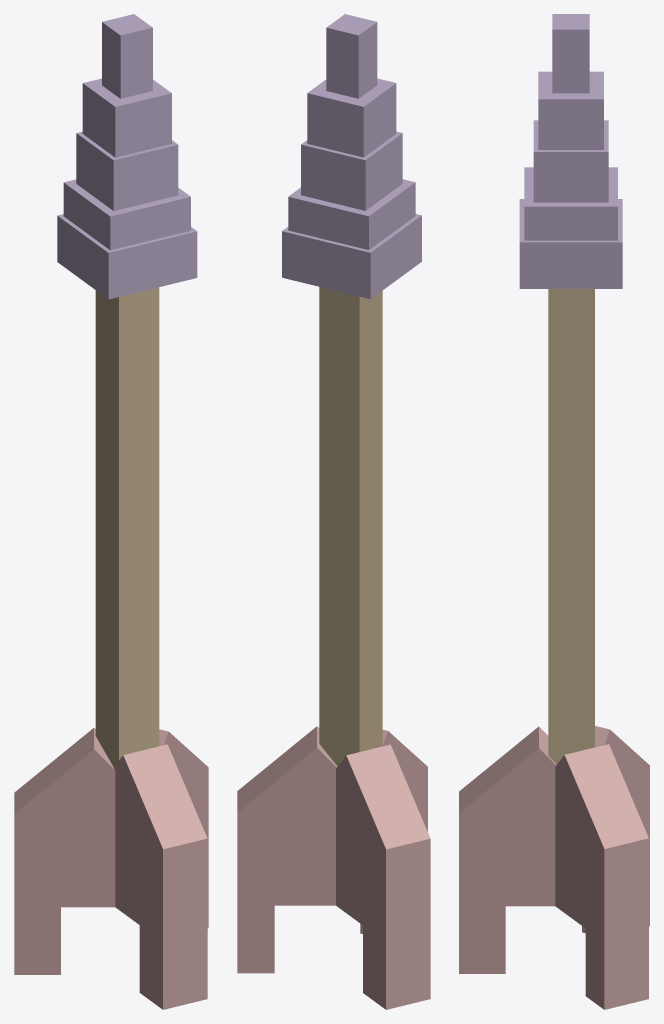
The model's file is IsoArcher.arrow.gltf.
3 views of the same model, side by side, from view 1: azimuth 30°, elevation 25°; view 2: azimuth 150°, elevation 25°; view 3: azimuth 270°, elevation 25° (orthographic).
Visible parts, largest first — view 1: 392da4a6-0bd7-9289-1cb7-db5d670ab290, 1ea4d548-f086-178e-73b8-49be394b940e, 4417084d-fec9-f581-c722-23504b6b3c8c, de598adf-060d-991b-62bc-e8b8c399892c, 15048dc1-eaa8-a1f0-29c7-59d6564ae6b0, 9c764c30-f756-50fc-f89d-91d7d4dd961e, 90eca5a1-1c42-ab53-94e7-ed0f11142ffe, 0455e8b1-8c47-5009-832d-5c2387693681, 49005386-c311-5ce1-26ec-653ee90f68c9, 583d874e-b163-b309-5b69-a2b5bf503a9c, 89610e5b-14cf-f53b-6971-e648db3985f9, dfc1f6ac-8116-7370-995a-172479285e55 (+2 smaller); view 2: 392da4a6-0bd7-9289-1cb7-db5d670ab290, 7dbfb04c-edc3-2b69-c7ed-3d3211226edb, 1ea4d548-f086-178e-73b8-49be394b940e, a1677301-f187-065c-4e82-2542b5e3ae78, de598adf-060d-991b-62bc-e8b8c399892c, 15048dc1-eaa8-a1f0-29c7-59d6564ae6b0, 90eca5a1-1c42-ab53-94e7-ed0f11142ffe, 0455e8b1-8c47-5009-832d-5c2387693681, 49005386-c311-5ce1-26ec-653ee90f68c9, dfc1f6ac-8116-7370-995a-172479285e55, 89610e5b-14cf-f53b-6971-e648db3985f9, 949b490e-fcf6-f788-2f34-650c4cdb0df4 (+2 smaller); view 3: 392da4a6-0bd7-9289-1cb7-db5d670ab290, 9c764c30-f756-50fc-f89d-91d7d4dd961e, 4417084d-fec9-f581-c722-23504b6b3c8c, 7dbfb04c-edc3-2b69-c7ed-3d3211226edb, a1677301-f187-065c-4e82-2542b5e3ae78, 15048dc1-eaa8-a1f0-29c7-59d6564ae6b0, 0455e8b1-8c47-5009-832d-5c2387693681, 949b490e-fcf6-f788-2f34-650c4cdb0df4, 49005386-c311-5ce1-26ec-653ee90f68c9, 90eca5a1-1c42-ab53-94e7-ed0f11142ffe, 583d874e-b163-b309-5b69-a2b5bf503a9c, 89610e5b-14cf-f53b-6971-e648db3985f9 (+2 smaller).
Part boxes in pixels (box(x1,y1,x2,y2)): 392da4a6-0bd7-9289-1cb7-db5d670ab290: box(95, 287, 159, 766); 1ea4d548-f086-178e-73b8-49be394b940e: box(14, 728, 115, 874); 4417084d-fec9-f581-c722-23504b6b3c8c: box(115, 814, 207, 942); de598adf-060d-991b-62bc-e8b8c399892c: box(14, 814, 115, 907); 15048dc1-eaa8-a1f0-29c7-59d6564ae6b0: box(57, 214, 197, 299); 9c764c30-f756-50fc-f89d-91d7d4dd961e: box(113, 744, 207, 879); 90eca5a1-1c42-ab53-94e7-ed0f11142ffe: box(76, 131, 178, 210); 0455e8b1-8c47-5009-832d-5c2387693681: box(82, 78, 171, 157); 49005386-c311-5ce1-26ec-653ee90f68c9: box(63, 179, 190, 250); 583d874e-b163-b309-5b69-a2b5bf503a9c: box(139, 925, 207, 1009); 89610e5b-14cf-f53b-6971-e648db3985f9: box(102, 14, 152, 98); dfc1f6ac-8116-7370-995a-172479285e55: box(14, 907, 60, 974); 392da4a6-0bd7-9289-1cb7-db5d670ab290: box(319, 287, 382, 766); 7dbfb04c-edc3-2b69-c7ed-3d3211226edb: box(237, 812, 335, 905); 1ea4d548-f086-178e-73b8-49be394b940e: box(336, 744, 430, 887); a1677301-f187-065c-4e82-2542b5e3ae78: box(237, 726, 337, 860); de598adf-060d-991b-62bc-e8b8c399892c: box(336, 838, 430, 942); 15048dc1-eaa8-a1f0-29c7-59d6564ae6b0: box(282, 214, 421, 299); 90eca5a1-1c42-ab53-94e7-ed0f11142ffe: box(301, 131, 402, 210); 0455e8b1-8c47-5009-832d-5c2387693681: box(307, 78, 396, 157); 49005386-c311-5ce1-26ec-653ee90f68c9: box(288, 179, 415, 249); dfc1f6ac-8116-7370-995a-172479285e55: box(363, 926, 430, 1009); 89610e5b-14cf-f53b-6971-e648db3985f9: box(326, 14, 377, 98); 949b490e-fcf6-f788-2f34-650c4cdb0df4: box(237, 905, 274, 973); 392da4a6-0bd7-9289-1cb7-db5d670ab290: box(548, 289, 594, 763); 9c764c30-f756-50fc-f89d-91d7d4dd961e: box(459, 726, 556, 873); 4417084d-fec9-f581-c722-23504b6b3c8c: box(459, 813, 555, 906); 7dbfb04c-edc3-2b69-c7ed-3d3211226edb: box(555, 819, 648, 942); a1677301-f187-065c-4e82-2542b5e3ae78: box(555, 744, 648, 879); 15048dc1-eaa8-a1f0-29c7-59d6564ae6b0: box(519, 199, 622, 288); 0455e8b1-8c47-5009-832d-5c2387693681: box(538, 71, 603, 149); 949b490e-fcf6-f788-2f34-650c4cdb0df4: box(585, 929, 648, 1009); 49005386-c311-5ce1-26ec-653ee90f68c9: box(524, 167, 617, 240); 90eca5a1-1c42-ab53-94e7-ed0f11142ffe: box(533, 120, 608, 202); 583d874e-b163-b309-5b69-a2b5bf503a9c: box(459, 906, 505, 973); 89610e5b-14cf-f53b-6971-e648db3985f9: box(552, 14, 589, 93).
Size of the model in its own units: 1.2 by 5.55 by 1.02.
3 materials, 3 textured.
